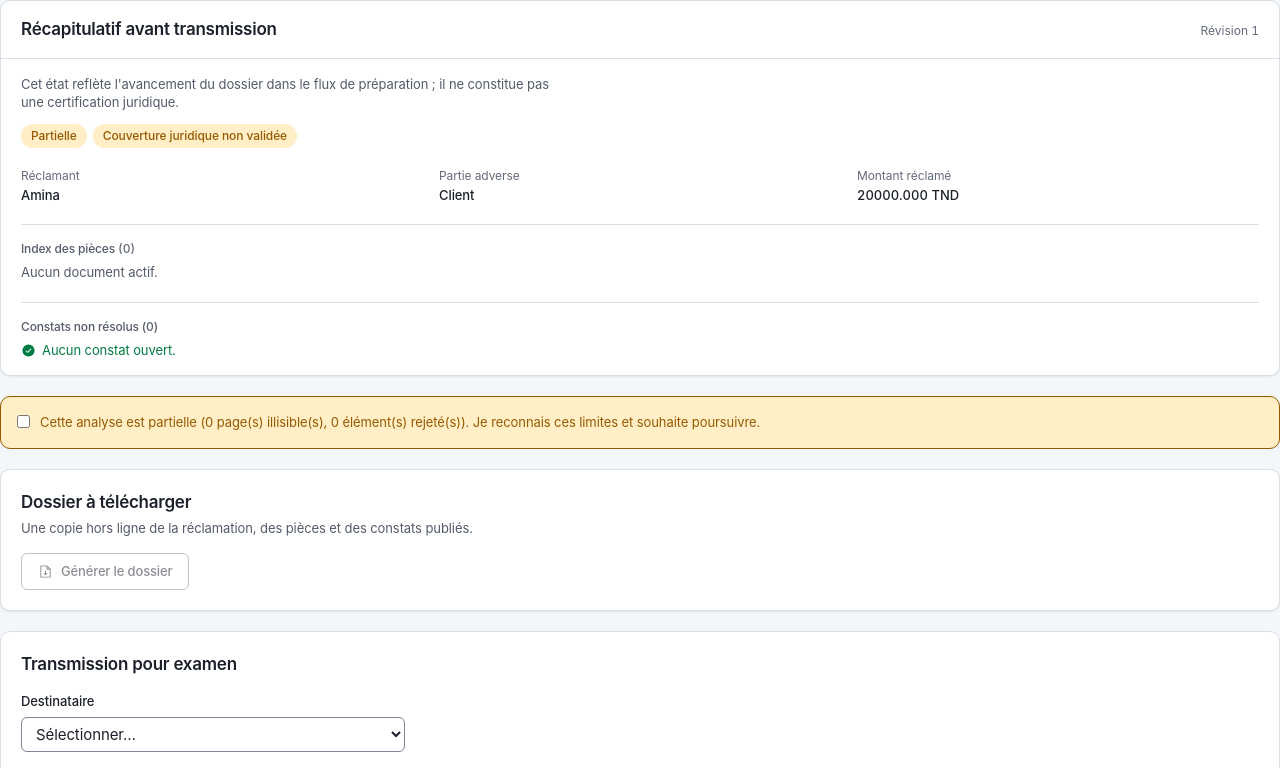
Test: SubmissionPanel › requires an explicit acknowledgement checkbox before a partial analysis can be exported
Expected: the button "Générer le dossier" is disabled, x1=21 y1=553 x2=189 y2=590
Step 1. Click the checkbox labelled "analyse est partielle" → (24,422), box x1=17 y1=416 x2=30 y2=428
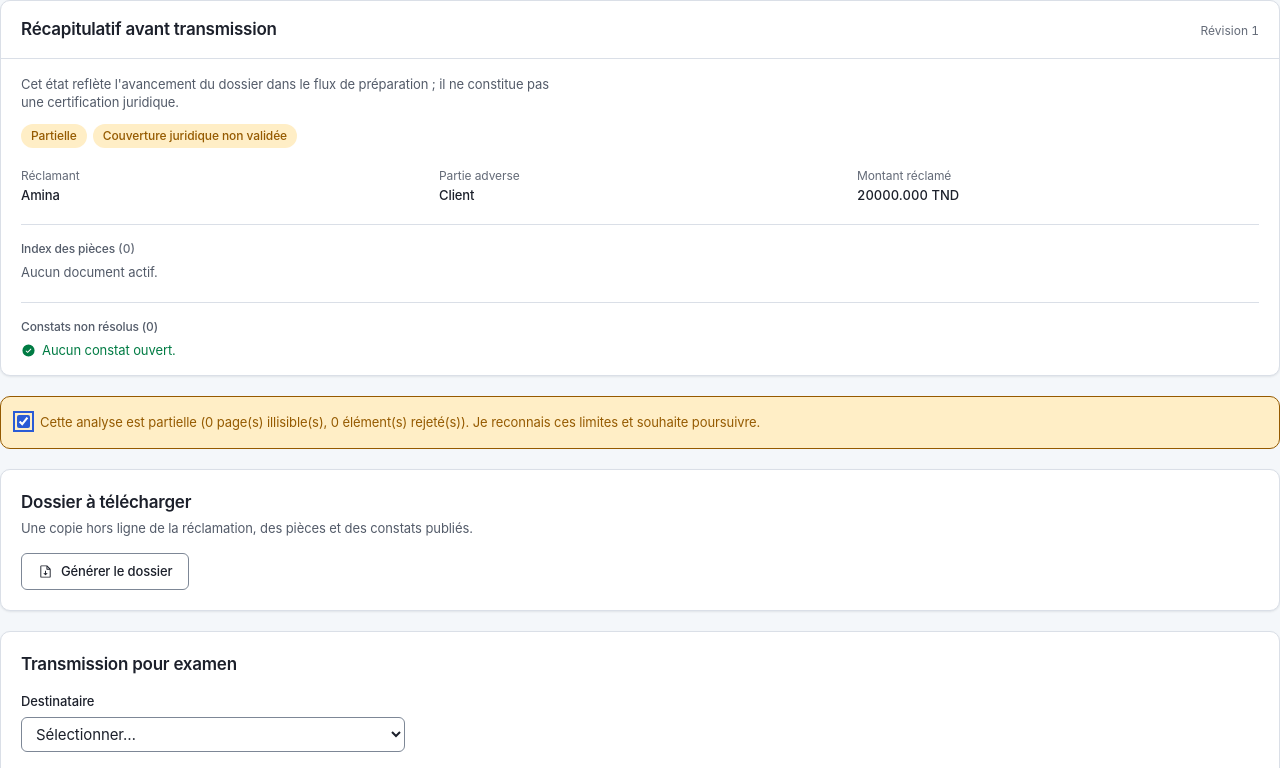
Result: the button "Générer le dossier" is enabled at x1=21 y1=553 x2=189 y2=590
